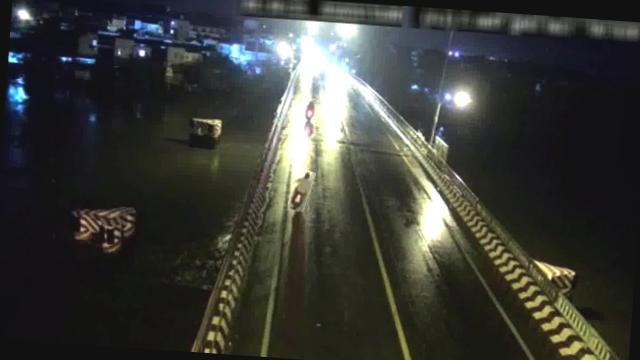Bike: (290, 168, 314, 211), (306, 98, 316, 120)
